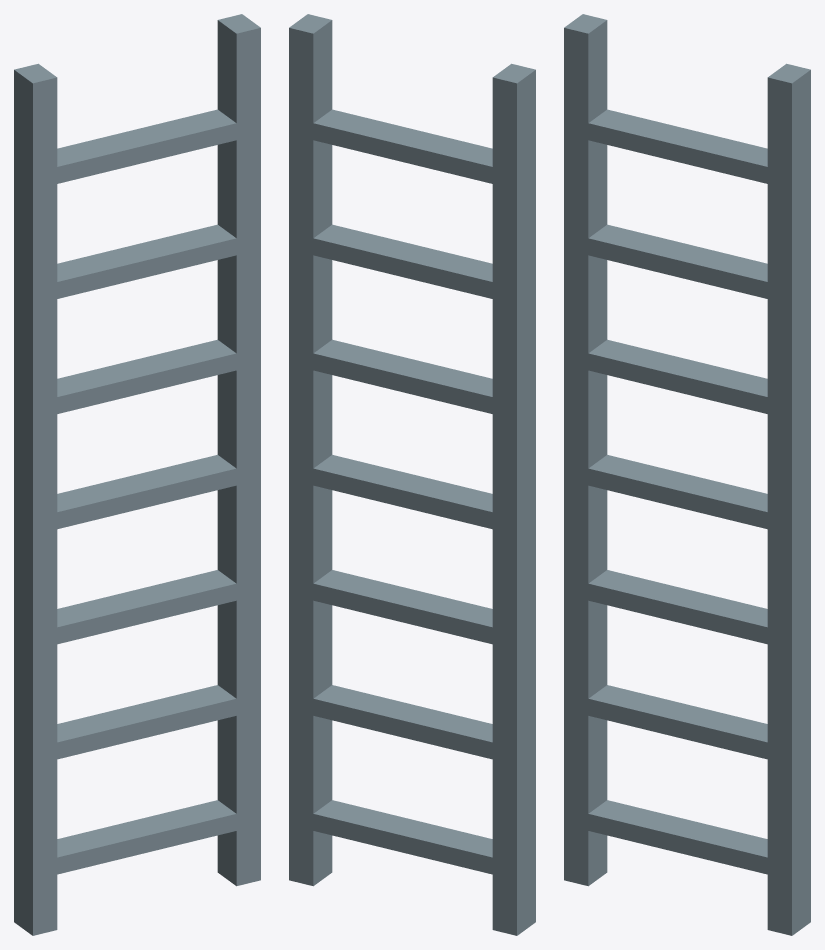
The model's file is ladder.glb.
3 views of the same model, side by side, from view 1: azimuth 30°, elevation 25°; view 2: azimuth 150°, elevation 25°; view 3: azimuth 330°, elevation 25° (orthographic).
Visible parts, largest first — view 1: ladder_000, ladder_001, ladder_007, ladder_006, ladder_008, ladder_005, ladder_002, ladder_004, ladder_003; view 2: ladder_000, ladder_001, ladder_008, ladder_006, ladder_007, ladder_005, ladder_002, ladder_003, ladder_004; view 3: ladder_001, ladder_000, ladder_008, ladder_006, ladder_007, ladder_005, ladder_002, ladder_003, ladder_004.
Part boxes in pixels (left/top/right/bottom): ladder_000: left=14, top=63, right=57, bottom=935; ladder_001: left=217, top=14, right=260, bottom=886; ladder_007: left=45, top=224, right=248, bottom=301; ladder_006: left=45, top=339, right=248, bottom=416; ladder_008: left=45, top=109, right=248, bottom=185; ladder_005: left=45, top=455, right=248, bottom=532; ladder_002: left=45, top=800, right=248, bottom=876; ladder_004: left=45, top=570, right=248, bottom=644; ladder_003: left=57, top=685, right=248, bottom=759; ladder_000: left=492, top=63, right=535, bottom=935; ladder_001: left=289, top=14, right=332, bottom=886; ladder_008: left=301, top=109, right=504, bottom=186; ladder_006: left=301, top=339, right=504, bottom=416; ladder_007: left=301, top=224, right=504, bottom=301; ladder_005: left=304, top=455, right=504, bottom=532; ladder_002: left=301, top=800, right=502, bottom=874; ladder_003: left=302, top=685, right=492, bottom=759; ladder_004: left=302, top=570, right=494, bottom=644; ladder_001: left=767, top=63, right=810, bottom=935; ladder_000: left=564, top=14, right=607, bottom=886; ladder_008: left=576, top=109, right=779, bottom=186; ladder_006: left=576, top=339, right=779, bottom=416; ladder_007: left=576, top=224, right=779, bottom=301; ladder_005: left=579, top=455, right=779, bottom=532; ladder_002: left=576, top=800, right=777, bottom=874; ladder_003: left=577, top=685, right=767, bottom=759; ladder_004: left=577, top=570, right=769, bottom=644.
Bounding box in the file's own units: 0.56 × 2 × 0.08.
